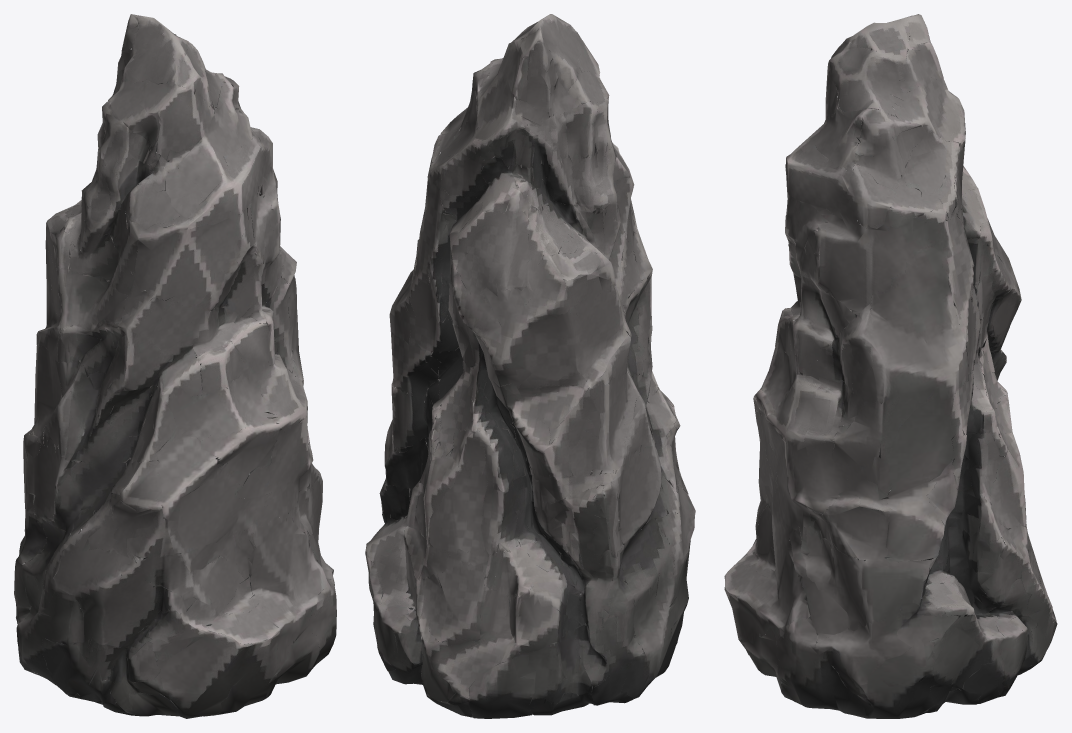
File: column_1.glb
3 views of the same model, side by side, from view 1: azimuth 30°, elevation 25°; view 2: azimuth 150°, elevation 25°; view 3: azimuth 270°, elevation 25° (orthographic).
Parts seen in each view (by area): view 1: Mesh_0; view 2: Mesh_0; view 3: Mesh_0.
Part boxes in pixels (x1,y1,x2,y2): Mesh_0: [14, 14, 336, 718]; Mesh_0: [365, 14, 695, 718]; Mesh_0: [724, 14, 1057, 718].
Bounding box in the file's own units: 0.8791 × 1.9 × 0.9071.
Materials: 1 (1 with a texture image).
